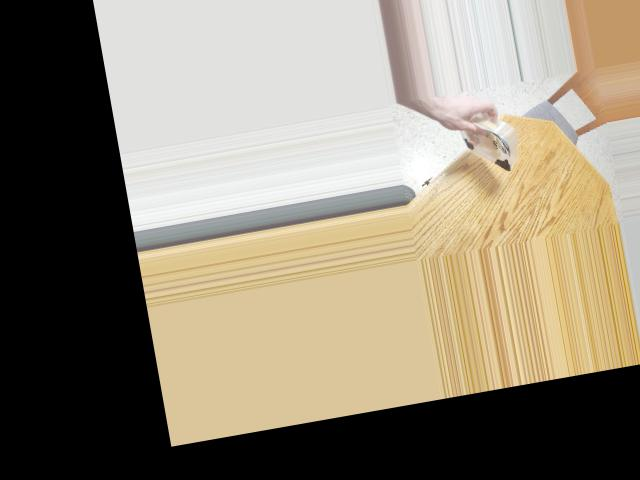cheese: (441, 109, 532, 180)
